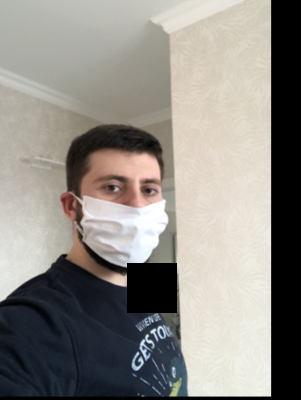with_mask: (81, 162, 169, 276)
